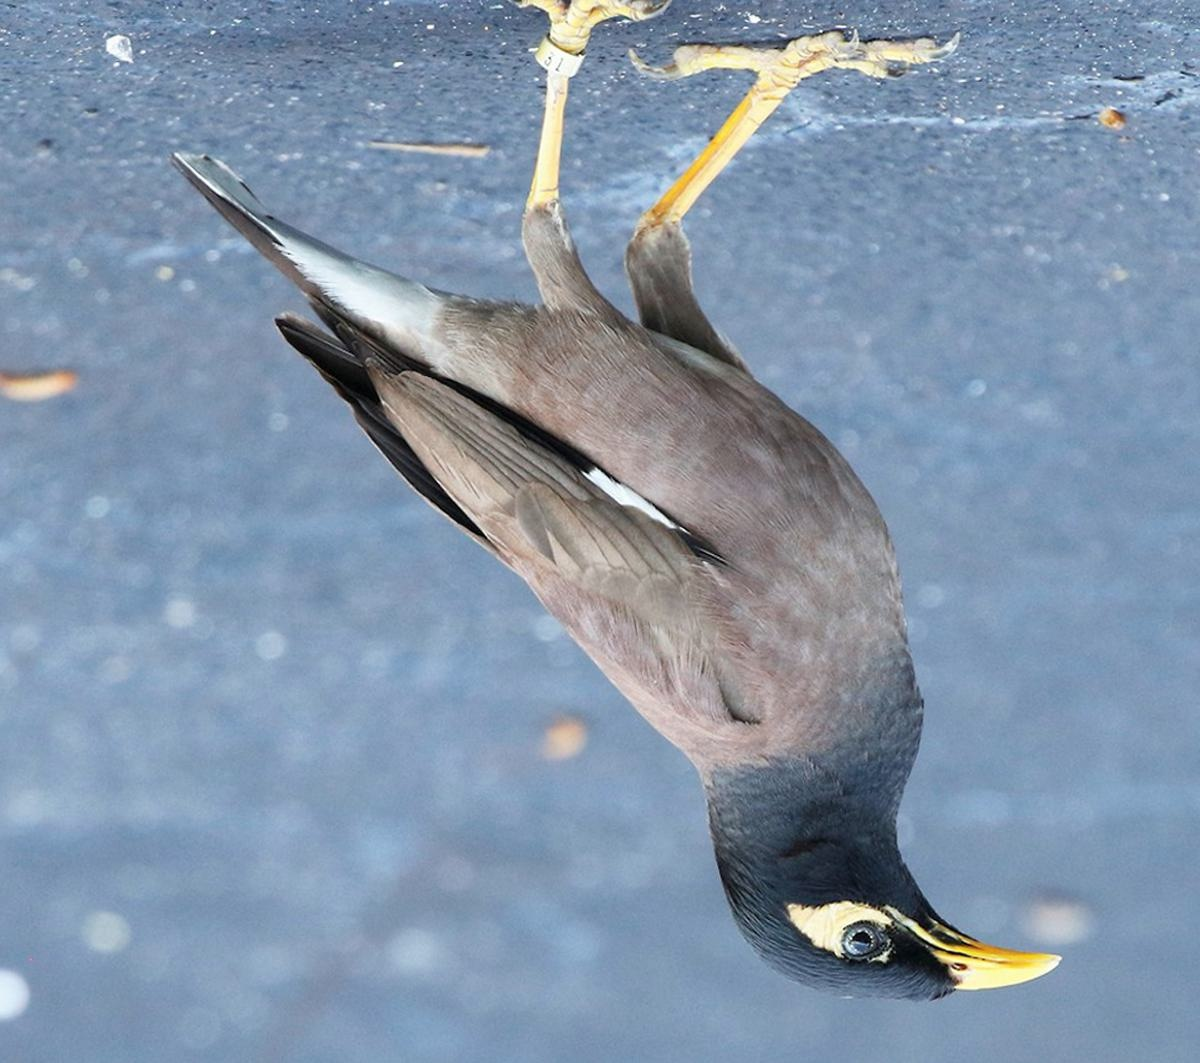myna: (303, 88, 1059, 1013)
